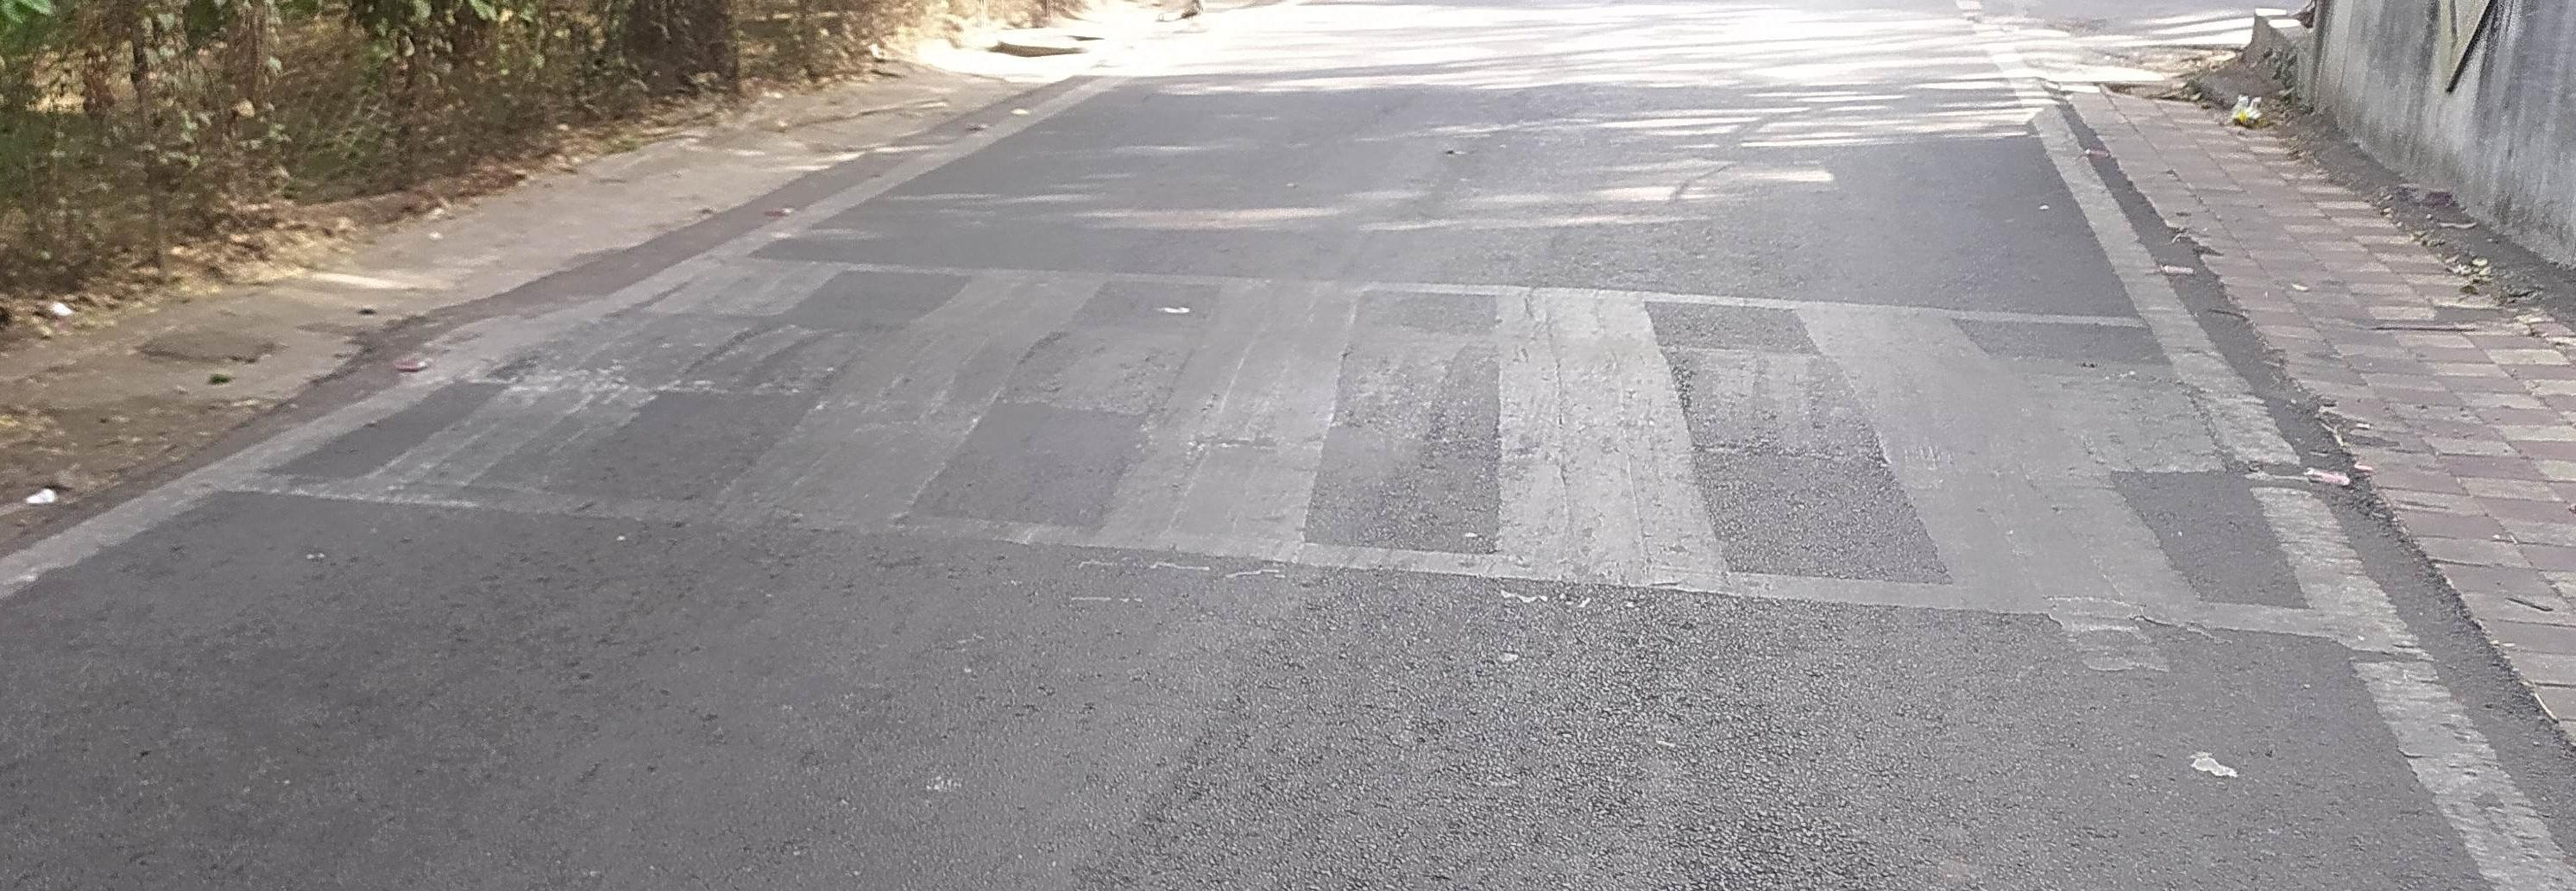speed-bump: (199, 231, 2424, 651)
